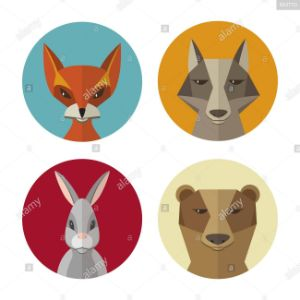bear: (174, 182, 264, 277)
fox: (38, 38, 128, 141)
wolf: (178, 35, 256, 140)
